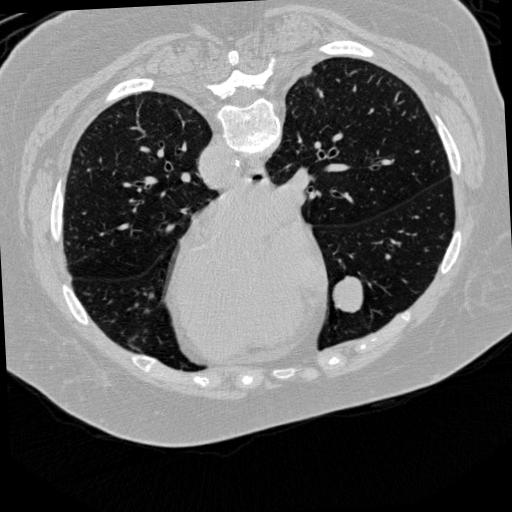nodule: (331, 277, 369, 315)
